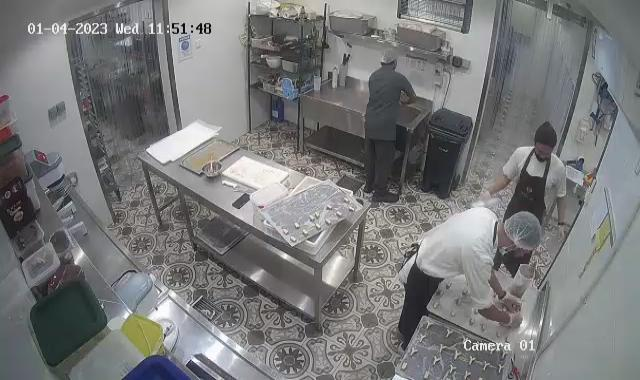hairnet: (500, 208, 542, 253), (378, 49, 401, 69)
no_hairnet: (532, 121, 558, 154)
